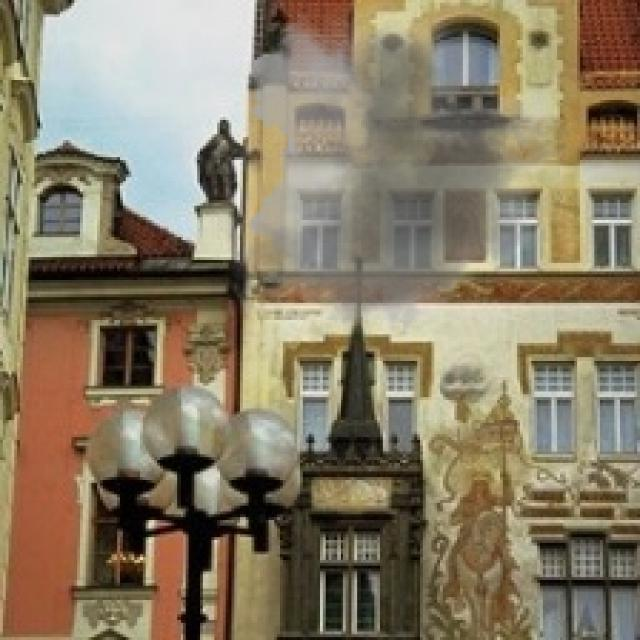smoke: (166, 0, 577, 349)
